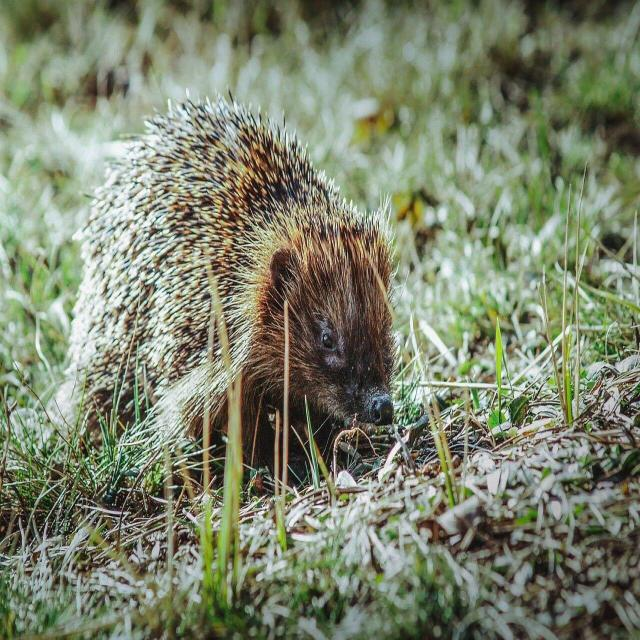Hedgehog: (53, 87, 408, 495)
